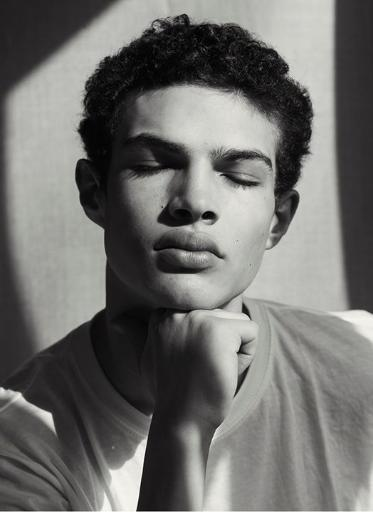left_eye: (220, 169, 264, 193)
left_lip_corner: (217, 251, 231, 268)
right_eye: (129, 158, 177, 182)
right_lip_corner: (149, 241, 165, 259)
